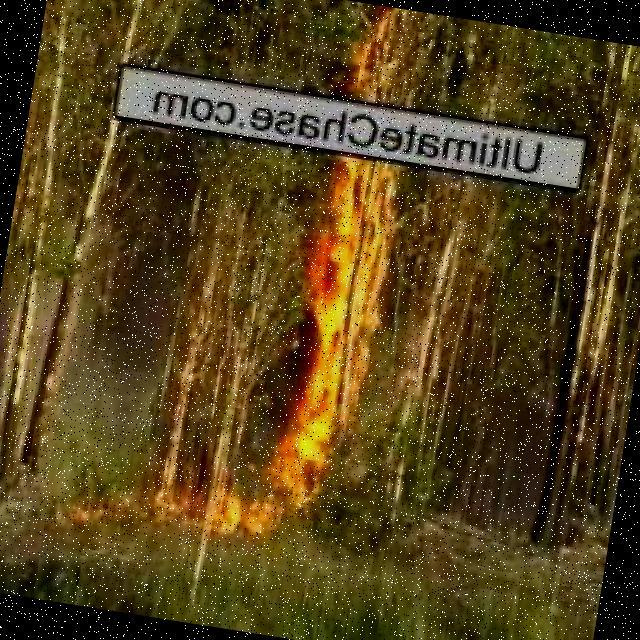Fire: (283, 164, 399, 438), (206, 434, 335, 554), (353, 17, 404, 108)
